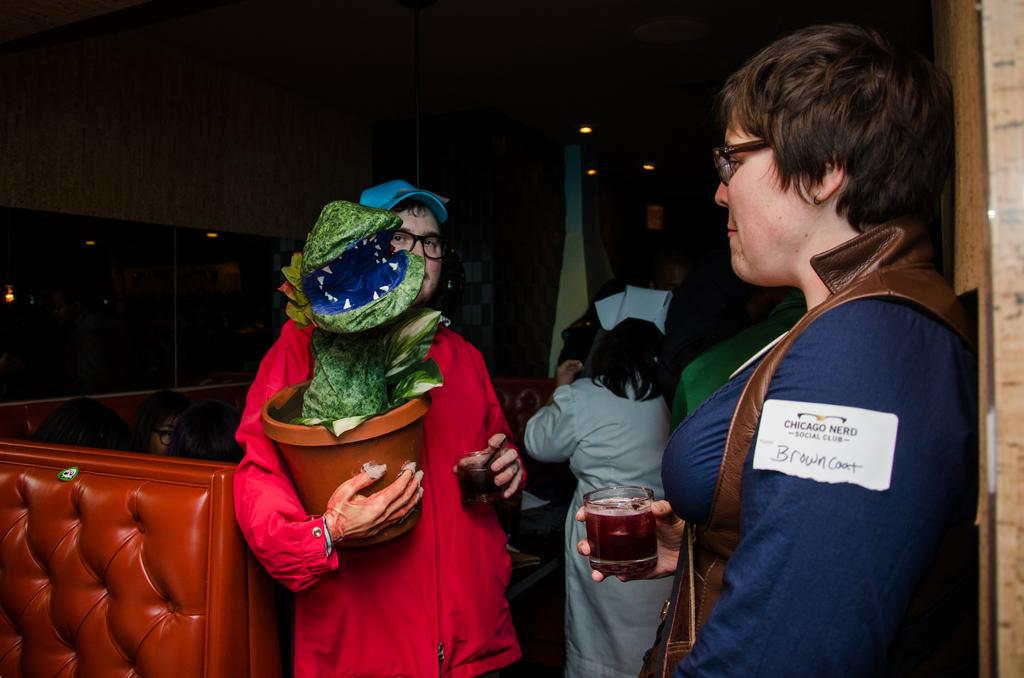Hat: (359, 180, 446, 224)
